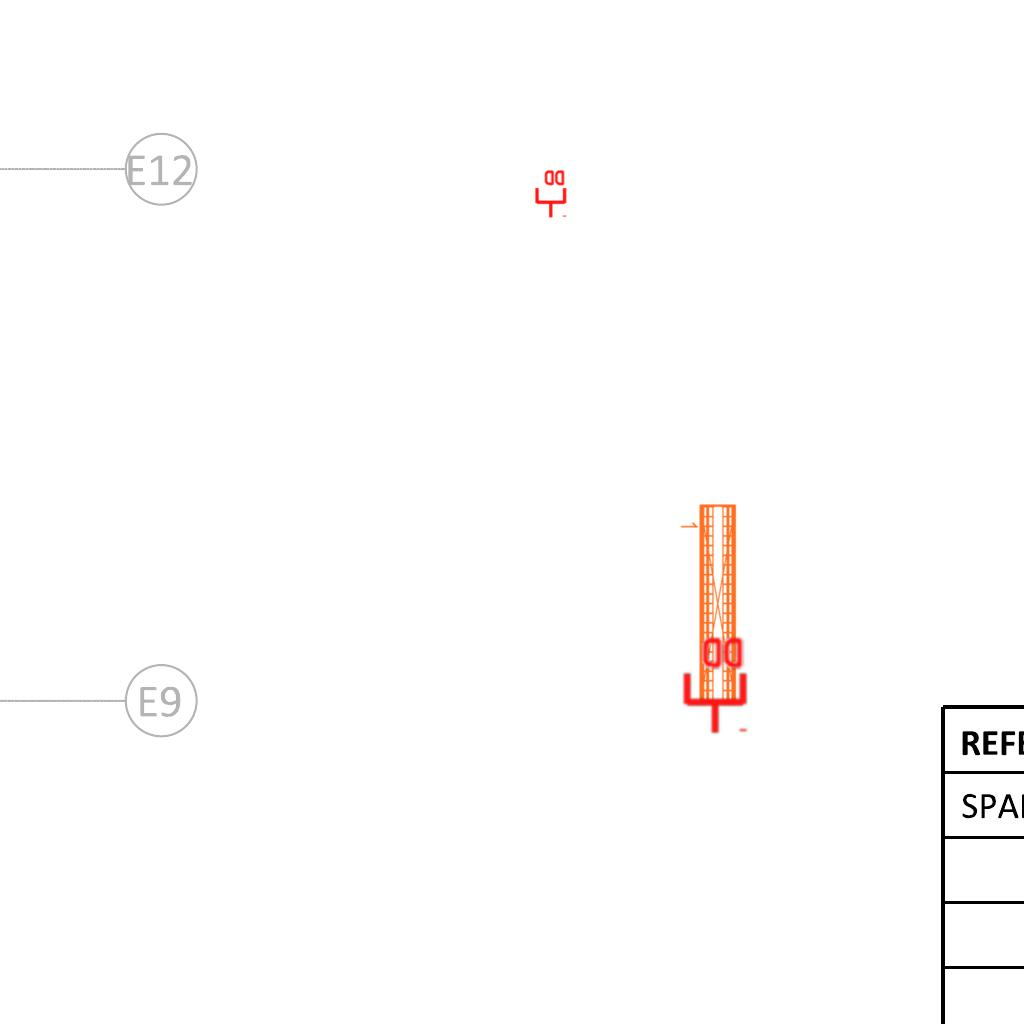Buero_Pendelleuchten_LED: (676, 501, 741, 707)
Datenanschluss_zweifach: (679, 633, 748, 736), (533, 168, 567, 219)
